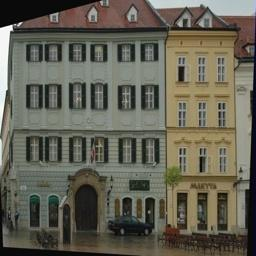building: (12, 0, 168, 231)
